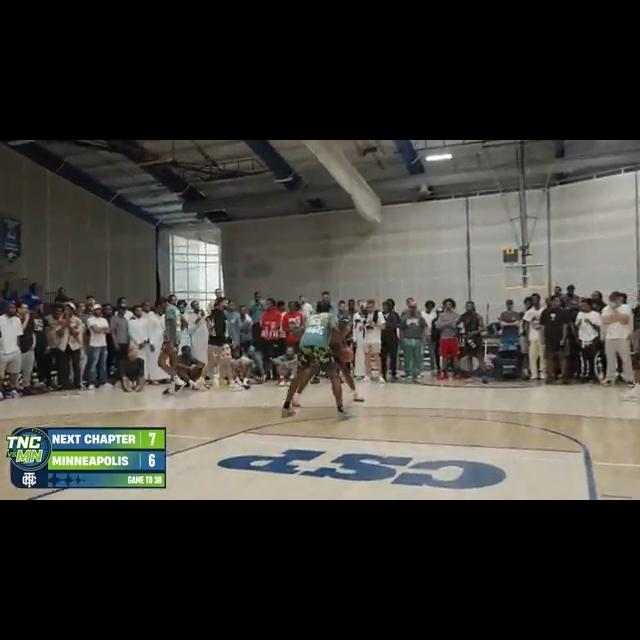basketball: (338, 347, 354, 362)
